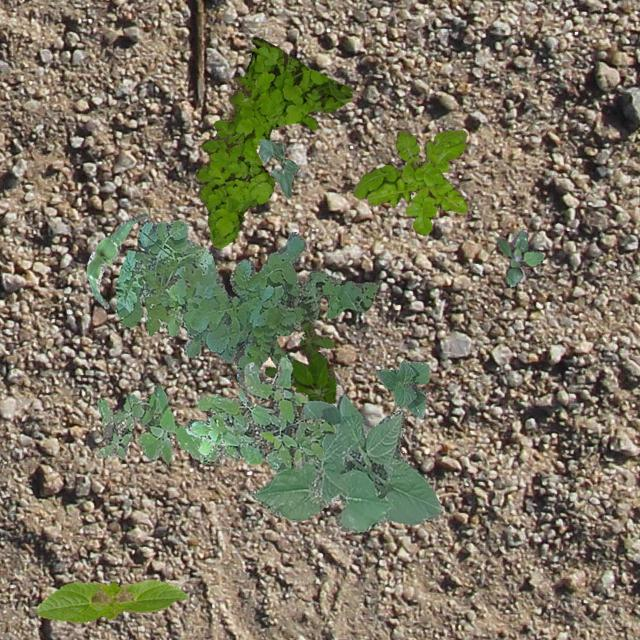crop: (250, 394, 442, 532), (36, 578, 186, 622), (86, 212, 148, 308), (374, 358, 428, 418), (258, 138, 298, 196)
weed: (114, 220, 376, 384), (194, 36, 352, 248), (184, 354, 336, 471), (352, 128, 466, 234), (96, 384, 240, 464), (264, 318, 336, 418), (496, 230, 542, 286)
